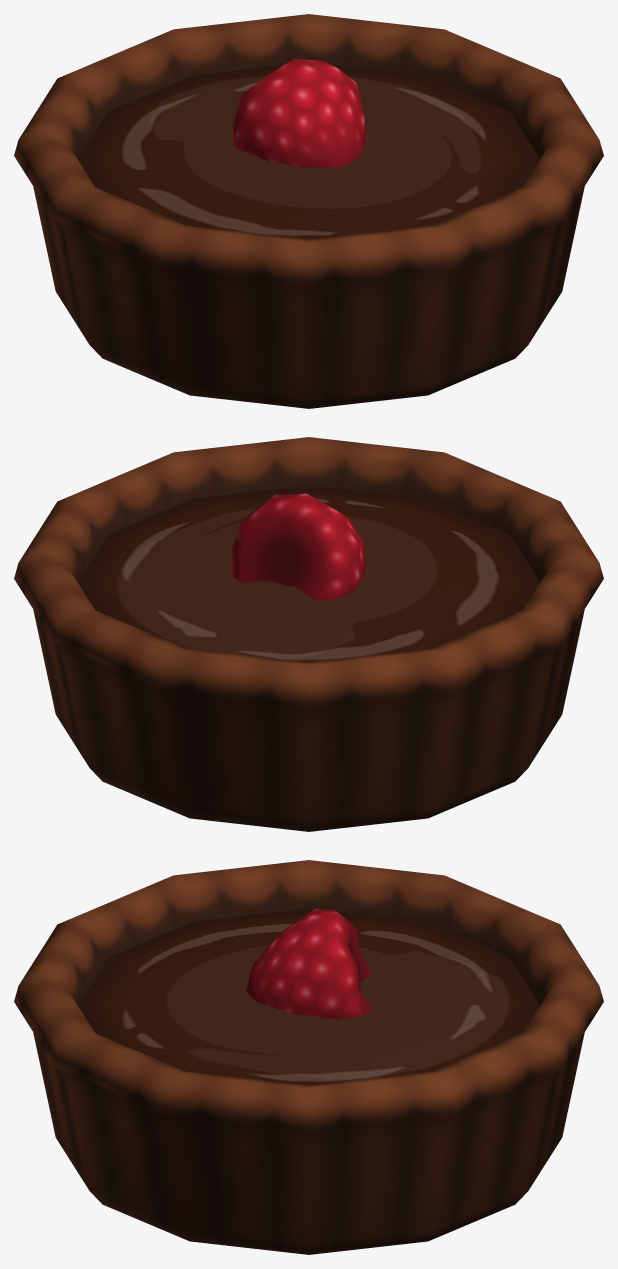
File: 009-Tarts_03.FBX
The picture shows the model from 3 angles, top to bottom: view 1: azimuth 30°, elevation 25°; view 2: azimuth 150°, elevation 25°; view 3: azimuth 270°, elevation 25°; orthographic projection.
Parts seen in each view (by area): view 1: 009-Tarts_03; view 2: 009-Tarts_03; view 3: 009-Tarts_03.
Part boxes in pixels (x1,y1,x2,y2): 009-Tarts_03: [14, 14, 603, 408]; 009-Tarts_03: [14, 437, 603, 831]; 009-Tarts_03: [14, 860, 603, 1254].
Size of the model in its own units: 13.42 by 5.99 by 13.42.
